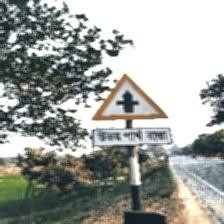Crossroad: (90, 73, 171, 150)
